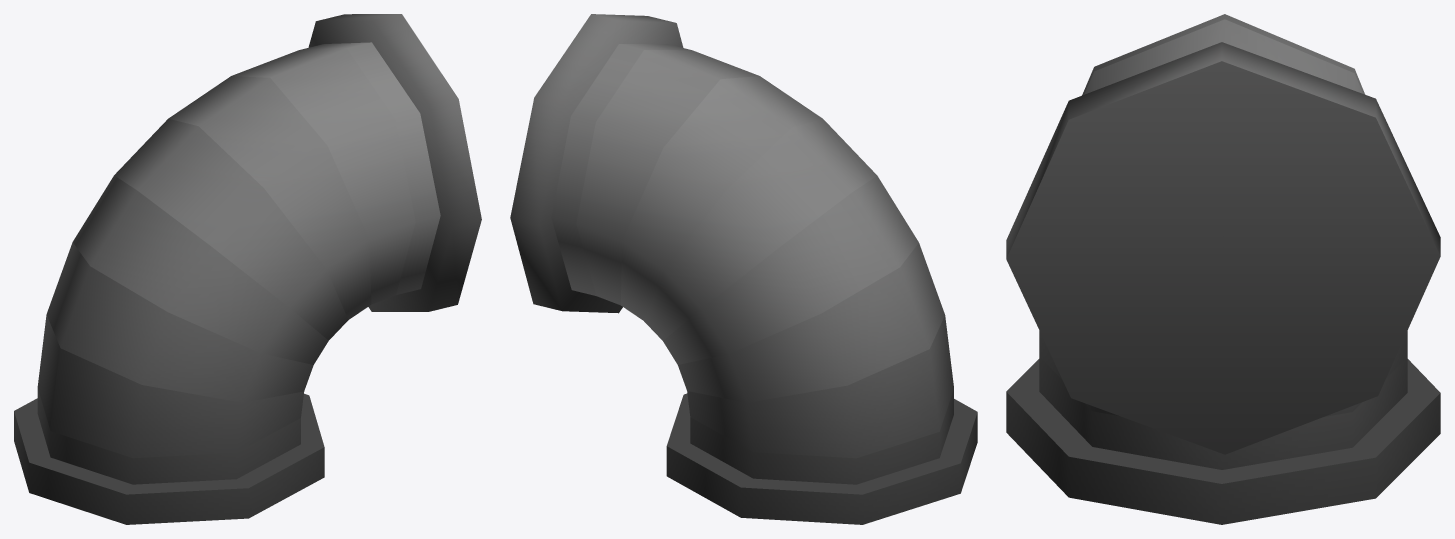
Rendered from Pipe_Corner.glb.
3 views of the same model, side by side, from view 1: azimuth 30°, elevation 25°; view 2: azimuth 150°, elevation 25°; view 3: azimuth 270°, elevation 25° (orthographic). The views are drawn at different scales.
Parts seen in each view (by area): view 1: Pipe_Corner; view 2: Pipe_Corner; view 3: Pipe_Corner.
Boxes of the visible parts, x1,y1,x2,y2 form: Pipe_Corner: (14, 14, 481, 524); Pipe_Corner: (510, 14, 977, 524); Pipe_Corner: (1006, 14, 1440, 524).
Bounding box in the file's own units: 0.4002 × 0.4005 × 0.3004.
1 material, 1 textured.
